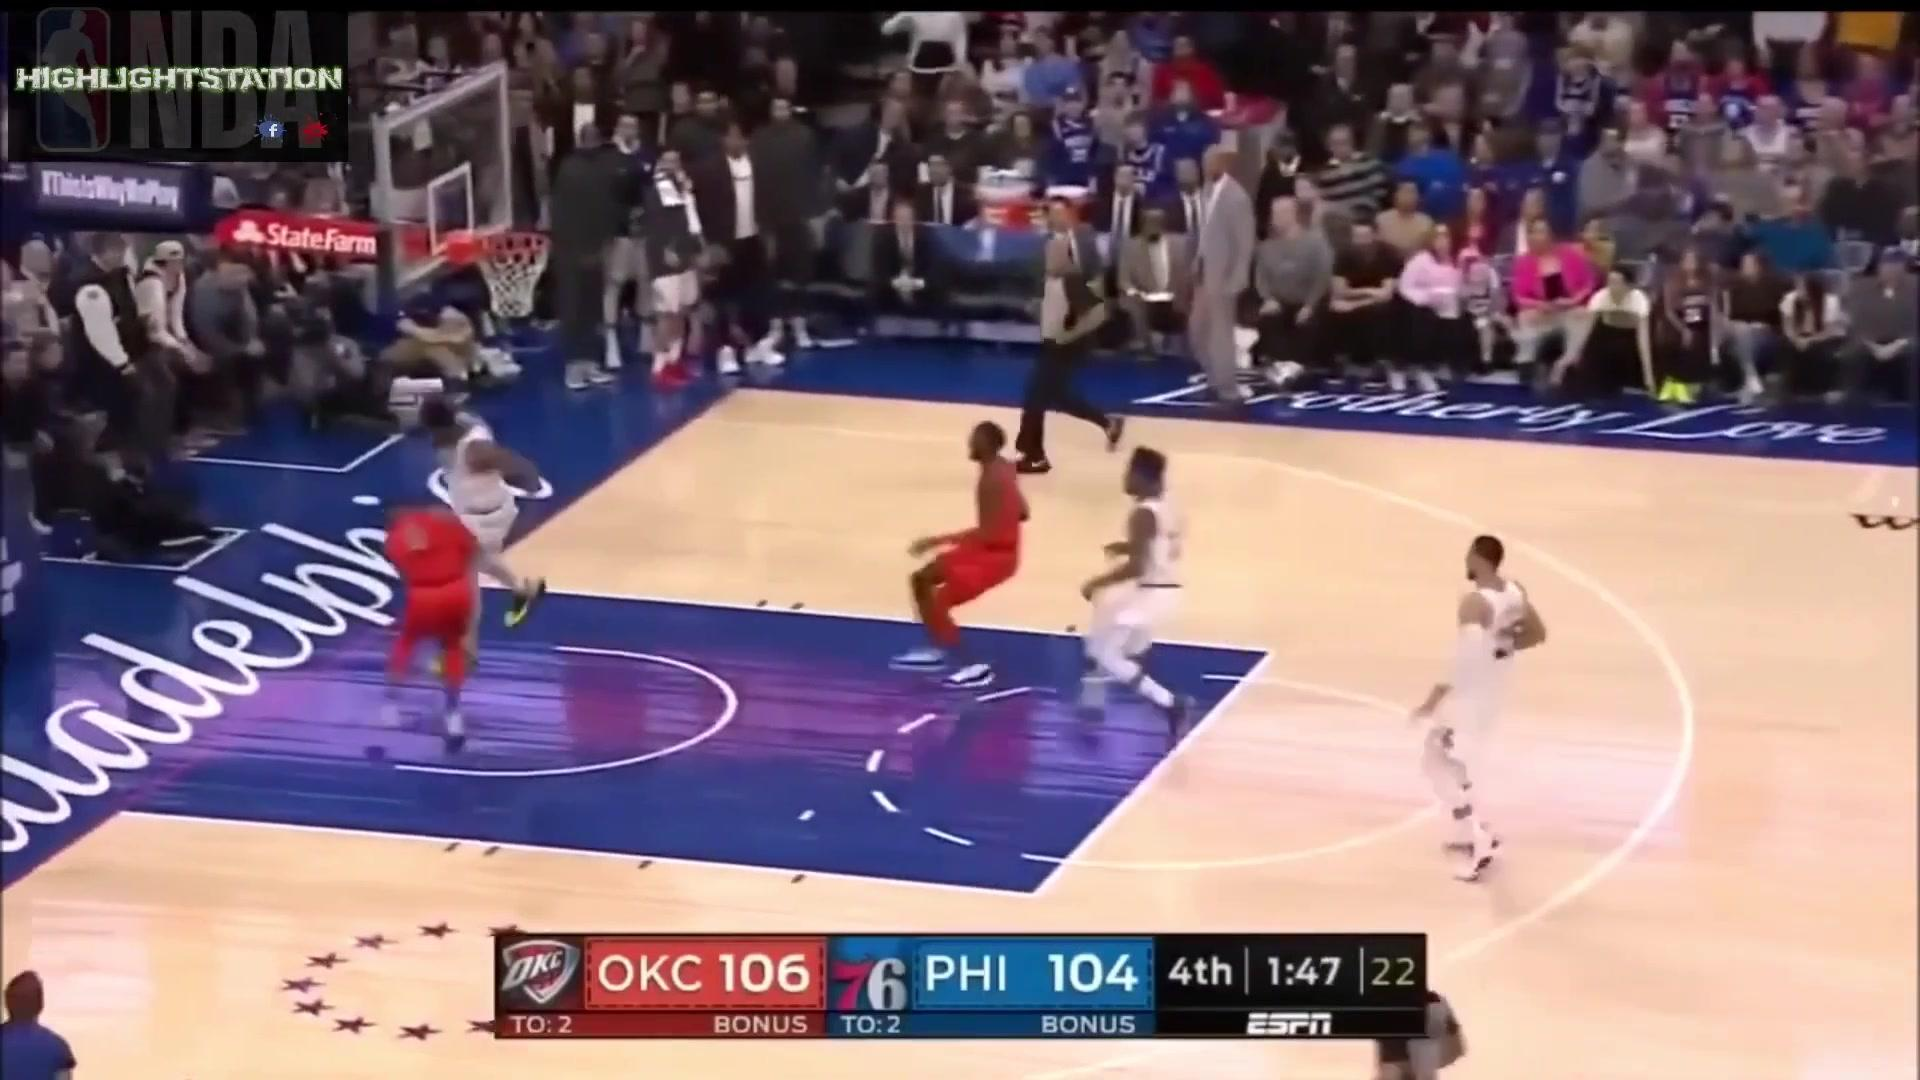no_foul: (368, 390, 541, 728)
